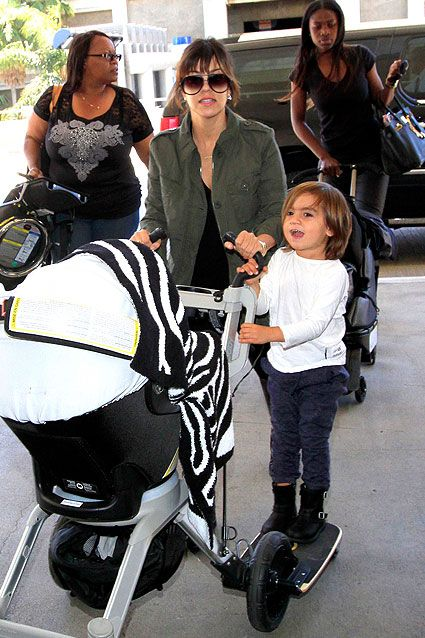Person: (244, 183, 350, 543), (146, 36, 284, 247), (290, 1, 407, 181), (24, 29, 148, 176)
